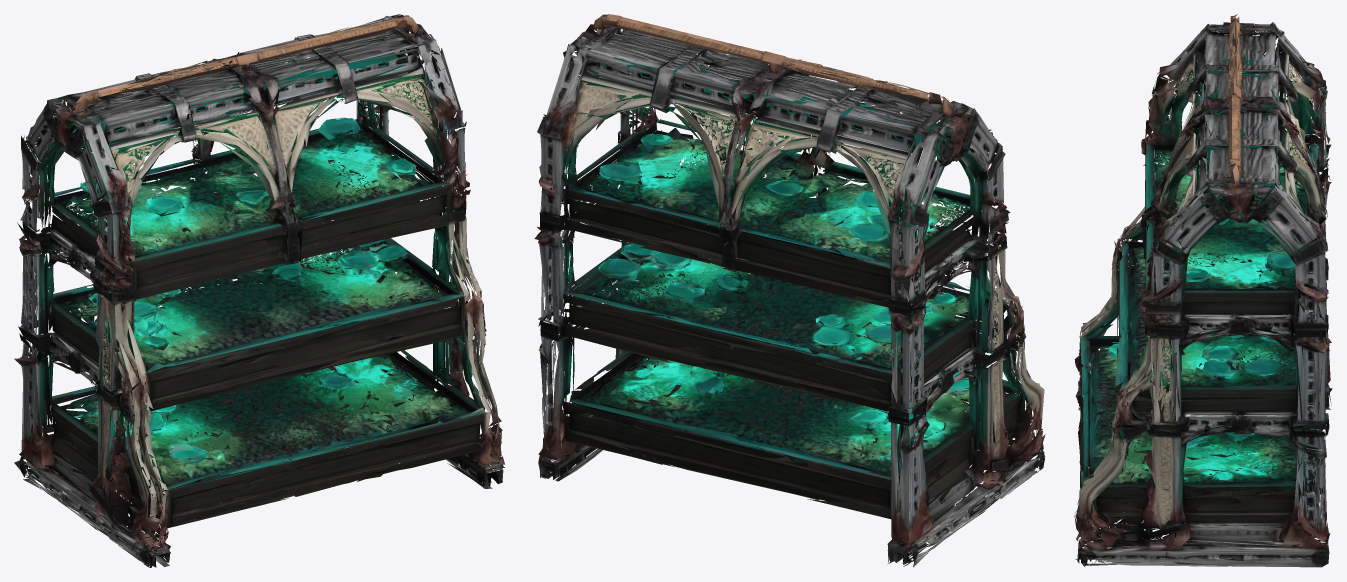
Rendered from prop_camp_tallow_spore_trays.glb.
3 renders of one model, left to right at view 1: azimuth 30°, elevation 25°; view 2: azimuth 150°, elevation 25°; view 3: azimuth 270°, elevation 25°, orthographic. The views are drawn at different scales.
Visible parts, largest first — view 1: node_0; view 2: node_0; view 3: node_0.
Part boxes in pixels (bbox=[...]): node_0: bbox=[14, 14, 505, 567]; node_0: bbox=[534, 14, 1045, 567]; node_0: bbox=[1074, 14, 1332, 567].
Bounding box in the file's own units: 0.7711 × 0.8327 × 0.491.
1 material, 1 textured.
